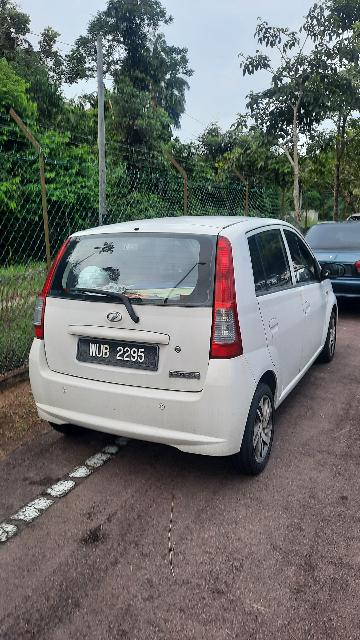License_Plate: (74, 334, 163, 376)
car: (23, 211, 349, 484)
